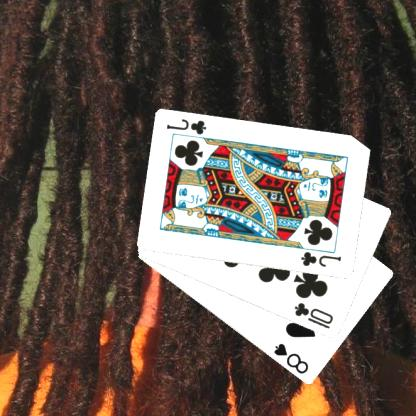10C: (293, 300, 337, 330)
8S: (273, 340, 312, 376)
JC: (300, 249, 345, 269), (166, 116, 210, 136)
